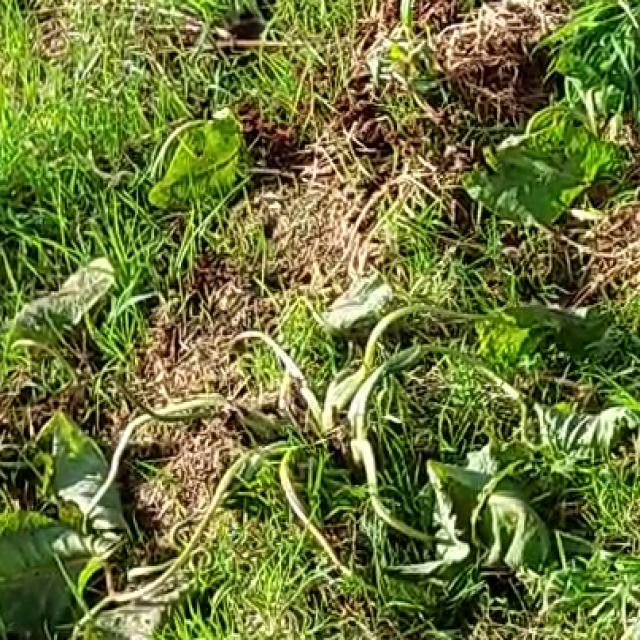organic waste: (8, 86, 618, 602)
